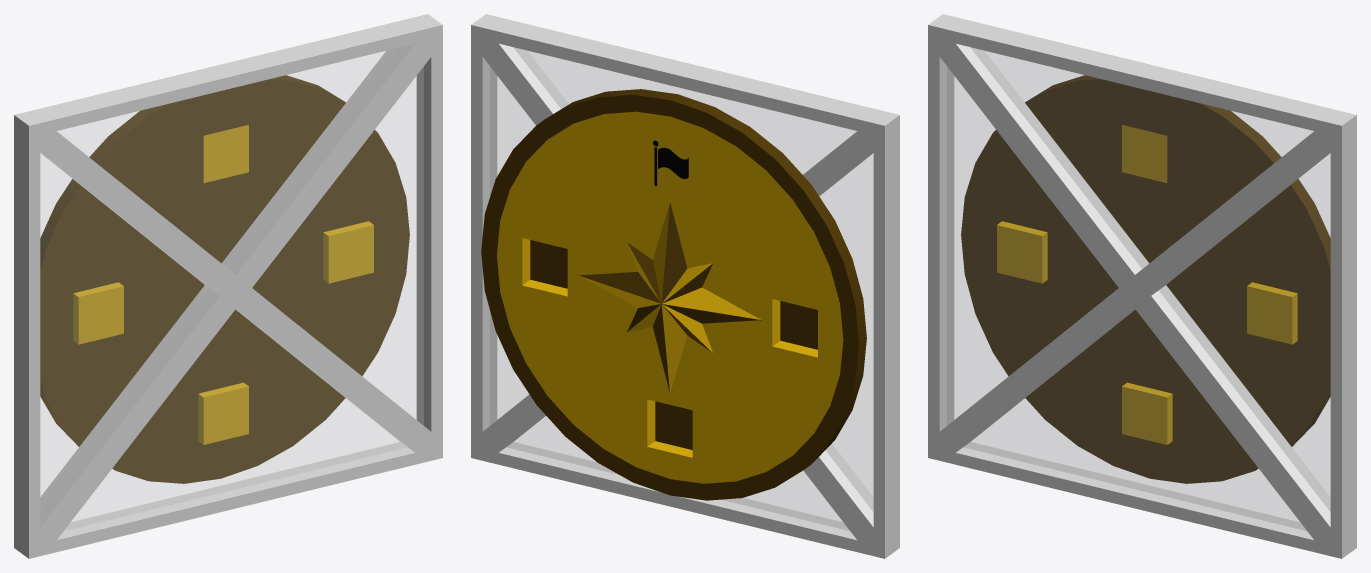
File: mdl_zesty_compasslock.gltf
3 views of the same model, side by side, from view 1: azimuth 30°, elevation 25°; view 2: azimuth 150°, elevation 25°; view 3: azimuth 330°, elevation 25° (orthographic).
Parts seen in each view (by area): view 1: mdl_zesty_compasslock; view 2: mdl_zesty_compasslock; view 3: mdl_zesty_compasslock.
Part boxes in pixels (x1,y1,x2,y2): mdl_zesty_compasslock: (14,14,442,558); mdl_zesty_compasslock: (471,14,899,558); mdl_zesty_compasslock: (928,14,1356,558).
Size of the model in its own units: 0.3737 by 0.3737 by 0.049.
Materials: 5 (1 with a texture image).
